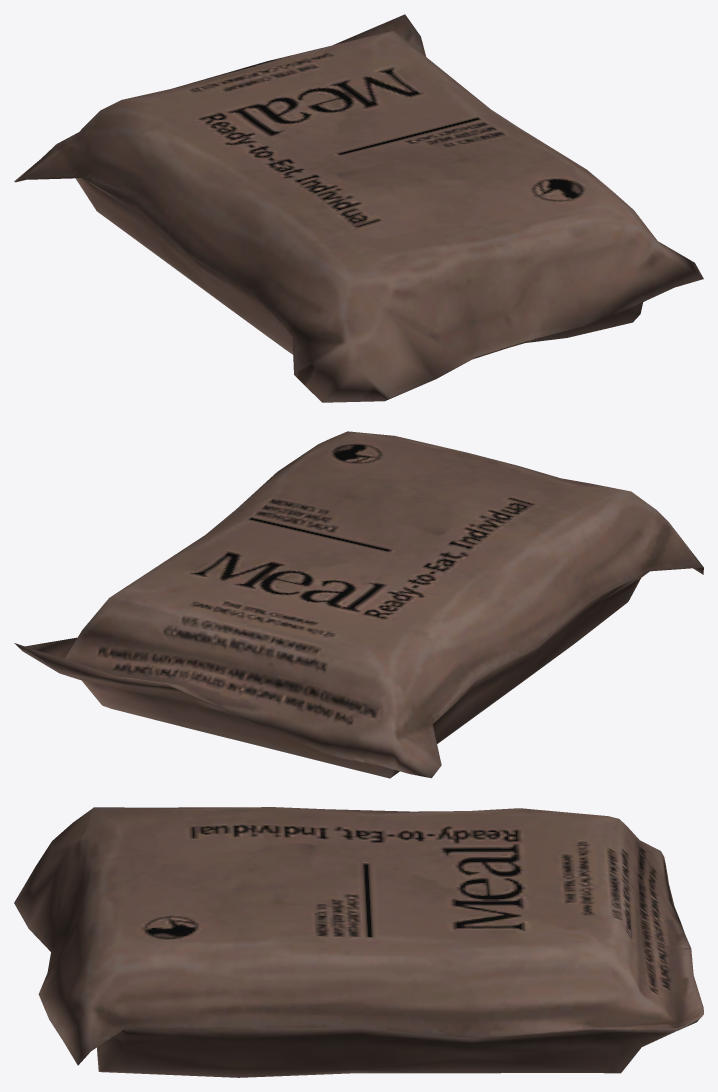
File: Common_Props_MRE_3P_LOD0.glb
3 views of the same model, one above another, from view 1: azimuth 30°, elevation 25°; view 2: azimuth 150°, elevation 25°; view 3: azimuth 270°, elevation 25° (orthographic). The views are drawn at different scales.
Visible parts, largest first — view 1: Hoodie; view 2: Hoodie; view 3: Hoodie.
Boxes of the visible parts, x1=… form: Hoodie: x1=14, y1=14, x2=703, y2=402; Hoodie: x1=14, y1=431, x2=703, y2=778; Hoodie: x1=14, y1=807, x2=703, y2=1077.
Size of the model in its own units: 0.1559 by 0.0463 by 0.2125.
1 material, 1 textured.
